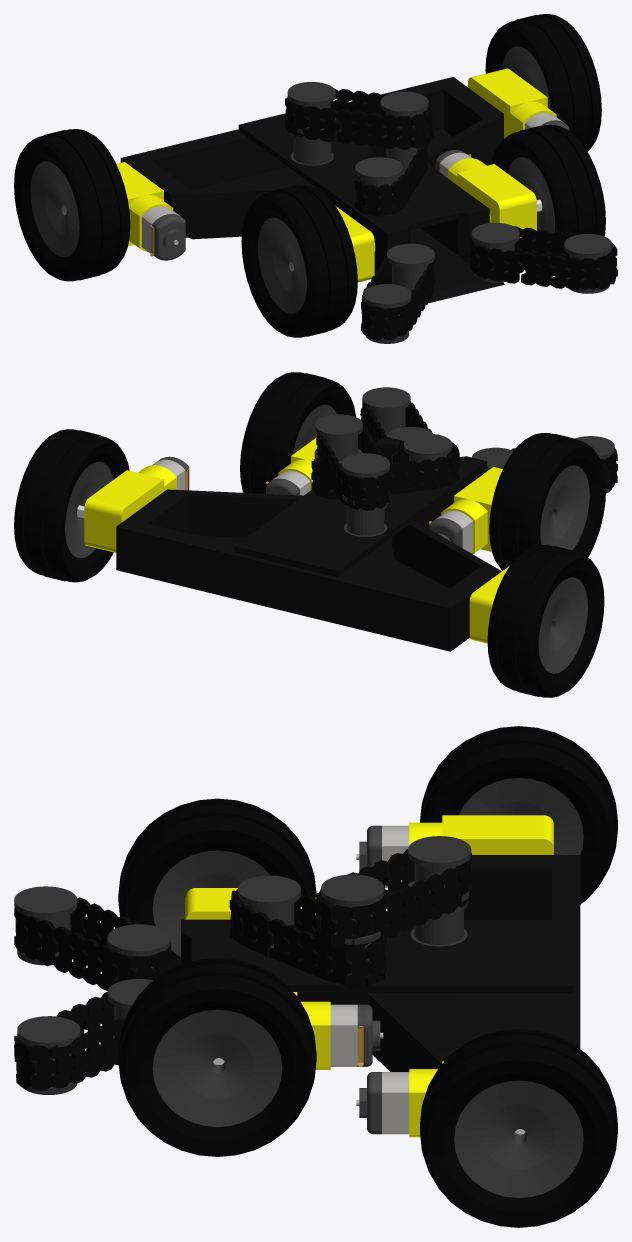
File: robotTennis_test.obj
3 views of the same model, one above another, from view 1: azimuth 30°, elevation 25°; view 2: azimuth 150°, elevation 25°; view 3: azimuth 270°, elevation 25° (orthographic). The views are drawn at different scales.
Parts seen in each view (by area): view 1: Cube, Circle.003, Circle.002, Circle.001, Circle, staict_tread.001, staict_tread.003, obj1.001, obj1.003, staict_tread, staict_tread.002, obj1.002 (+11 smaller); view 2: Cube, Circle.002, Circle.003, Circle.001, Circle, obj1.003, staict_tread.002, staict_tread.003, obj1, Cylinder.006, Cylinder.002, obj1.002 (+11 smaller); view 3: Cube, Circle.001, Circle, Circle.002, Circle.003, staict_tread.003, staict_tread, staict_tread.002, staict_tread.001, obj1.002, Cylinder.003, Cylinder.008 (+15 smaller).
Part boxes in pixels (x1,y1,x2,y2): Cube: (120,77,504,303); Circle.003: (241,185,357,337); Circle.002: (14,129,130,281); Circle.001: (485,14,601,151); Circle: (491,125,605,275); staict_tread.001: (469,226,617,290); staict_tread.003: (285,88,433,149); obj1.001: (448,158,536,238); obj1.003: (468,68,556,138); staict_tread: (361,257,434,340); staict_tread.002: (354,144,428,216); obj1.002: (116,162,173,251); Cube: (116,436,501,651); Circle.002: (487,545,604,697); Circle.003: (489,433,605,570); Circle.001: (14,429,129,582); Circle: (240,372,356,493); obj1.003: (84,465,176,552); staict_tread.002: (311,441,459,499); staict_tread.003: (316,425,390,510); obj1: (441,467,502,553); Cylinder.006: (315,414,362,461); Cylinder.002: (362,387,410,434); obj1.002: (469,566,509,643); Cube: (181,855,580,1071); Circle.001: (420,1028,617,1227); Circle: (118,958,316,1156); Circle.002: (420,726,617,904); Circle.003: (118,798,316,968); staict_tread.003: (315,849,471,949); staict_tread: (14,897,171,990); staict_tread.002: (229,888,386,990); staict_tread.001: (14,992,125,1090); obj1.002: (409,815,553,854); Cylinder.003: (238,875,300,948); Cylinder.008: (408,836,471,914).
Size of the model in its own units: 18.27 by 5.13 by 14.03.
